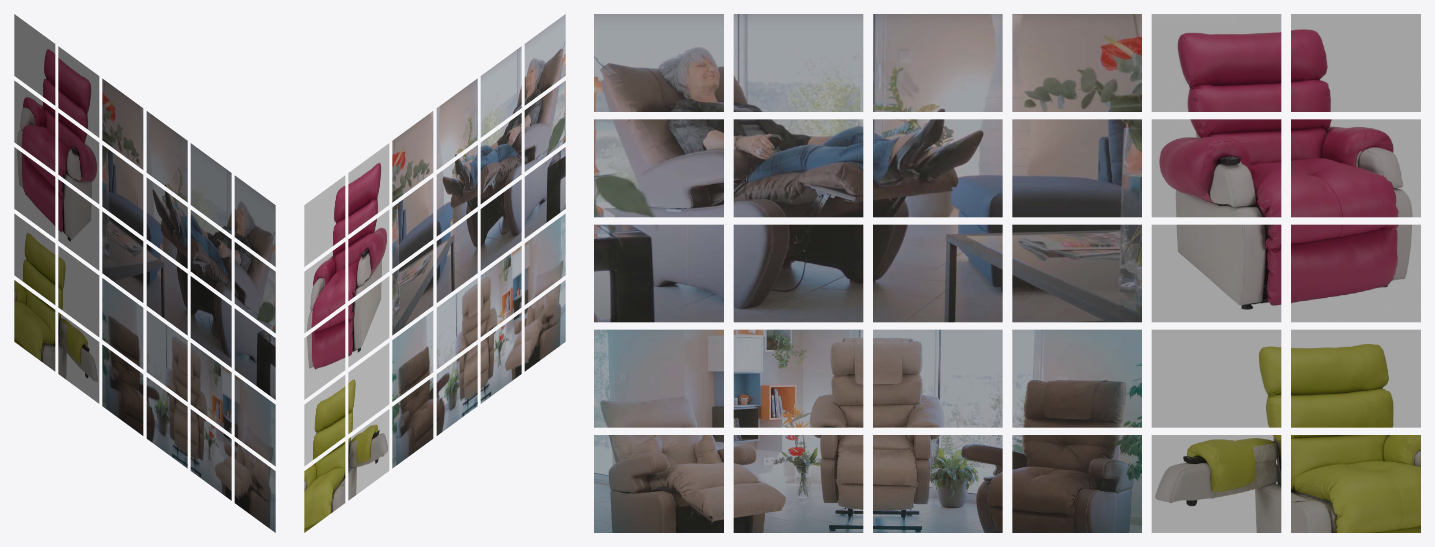
File: TV_bien_2.glb
3 renders of one model, left to right at view 1: azimuth 30°, elevation 25°; view 2: azimuth 150°, elevation 25°; view 3: azimuth 270°, elevation 25°, orthographic. The views are drawn at different scales.
Visible parts, largest first — view 1: 2.006, 1.006, 3.005, 4.003; view 2: 2.006, 1.006, 3.005, 4.003; view 3: 2.006, 1.006, 3.005, 4.003.
Boxes of the visible parts, x1=… form: 2.006: x1=102, y1=78, x2=275, y2=399; 1.006: x1=102, y1=278, x2=275, y2=532; 3.005: x1=14, y1=14, x2=99, y2=270; 4.003: x1=14, y1=213, x2=99, y2=403; 2.006: x1=392, y1=14, x2=565, y2=335; 1.006: x1=392, y1=213, x2=565, y2=468; 3.005: x1=304, y1=143, x2=389, y2=399; 4.003: x1=304, y1=343, x2=389, y2=532; 2.006: x1=594, y1=14, x2=1141, y2=322; 1.006: x1=594, y1=329, x2=1141, y2=532; 3.005: x1=1151, y1=14, x2=1420, y2=322; 4.003: x1=1151, y1=329, x2=1420, y2=532.
Size of the model in its own units: 1.27e-07 by 8.82 by 12.74.
Materials: 4 (4 with a texture image).
